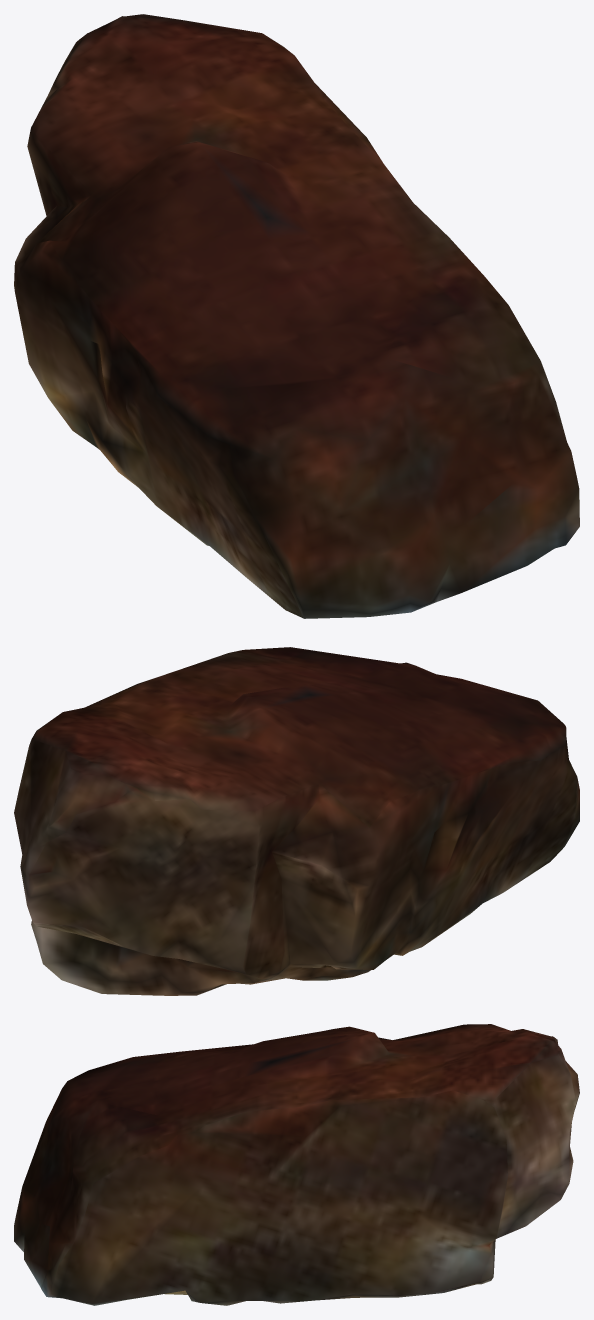
File: rock-07.lite.bf2d1ba9.glb
3 renders of one model, top to bottom at view 1: azimuth 30°, elevation 25°; view 2: azimuth 150°, elevation 25°; view 3: azimuth 270°, elevation 25°, orthographic. The views are drawn at different scales.
Parts seen in each view (by area): view 1: model; view 2: model; view 3: model.
Boxes of the visible parts, x1,y1,x2,y2 form: model: (14,14,579,618); model: (14,647,579,995); model: (14,1024,579,1305).
Size of the model in its own units: 0.1676 by 0.1434 by 0.3194.
1 material, 1 textured.
